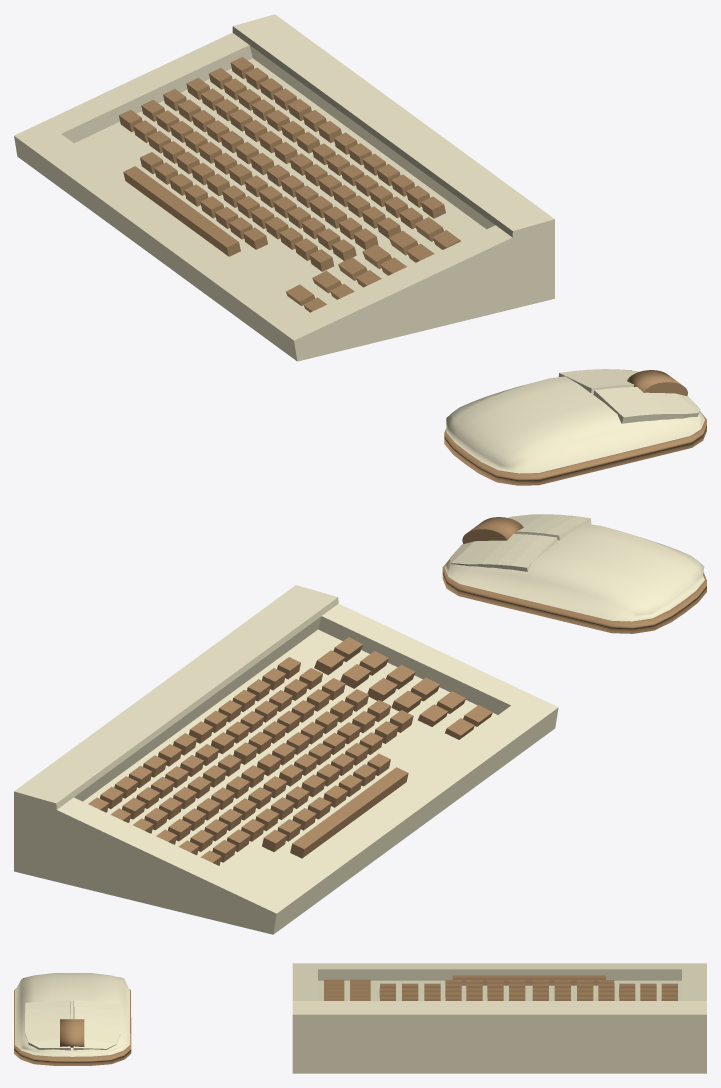
Rendered from Keyboard&Mouse_tier7.fbx.
3 renders of one model, top to bottom at view 1: azimuth 30°, elevation 25°; view 2: azimuth 150°, elevation 25°; view 3: azimuth 270°, elevation 25°, orthographic. The views are drawn at different scales.
Visible parts, largest first — view 1: Cube, Cube.003, Cube.024, Cube.001, Cube.023, Cube.002, Cylinder; view 2: Cube, Cube.003, Cube.024, Cube.001, Cube.023, Cube.002, Cylinder; view 3: Cube, Cube.024, Cube.003, Cube.002, Cube.001, Cube.023, Cylinder.
Boxes of the visible parts, x1,y1,x2,y2 form: Cube: (14, 14, 554, 361); Cube.003: (119, 57, 445, 271); Cube.024: (444, 369, 706, 485); Cube.001: (123, 152, 267, 256); Cube.023: (286, 217, 460, 312); Cube.002: (558, 369, 700, 423); Cylinder: (627, 370, 687, 396); Cube: (14, 585, 558, 934); Cube.003: (88, 657, 413, 865); Cube.024: (442, 524, 706, 633); Cube.001: (262, 753, 408, 858); Cube.023: (314, 637, 492, 739); Cube.002: (449, 514, 591, 571); Cylinder: (462, 517, 523, 543); Cube: (292, 963, 706, 1073); Cube.024: (14, 973, 131, 1065); Cube.003: (379, 983, 677, 1000); Cube.002: (25, 999, 120, 1050); Cube.001: (445, 975, 614, 987); Cube.023: (324, 979, 370, 1000); Cylinder: (60, 1019, 84, 1047).
Size of the model in its own units: 0.3738 by 0.1089 by 1.16.
